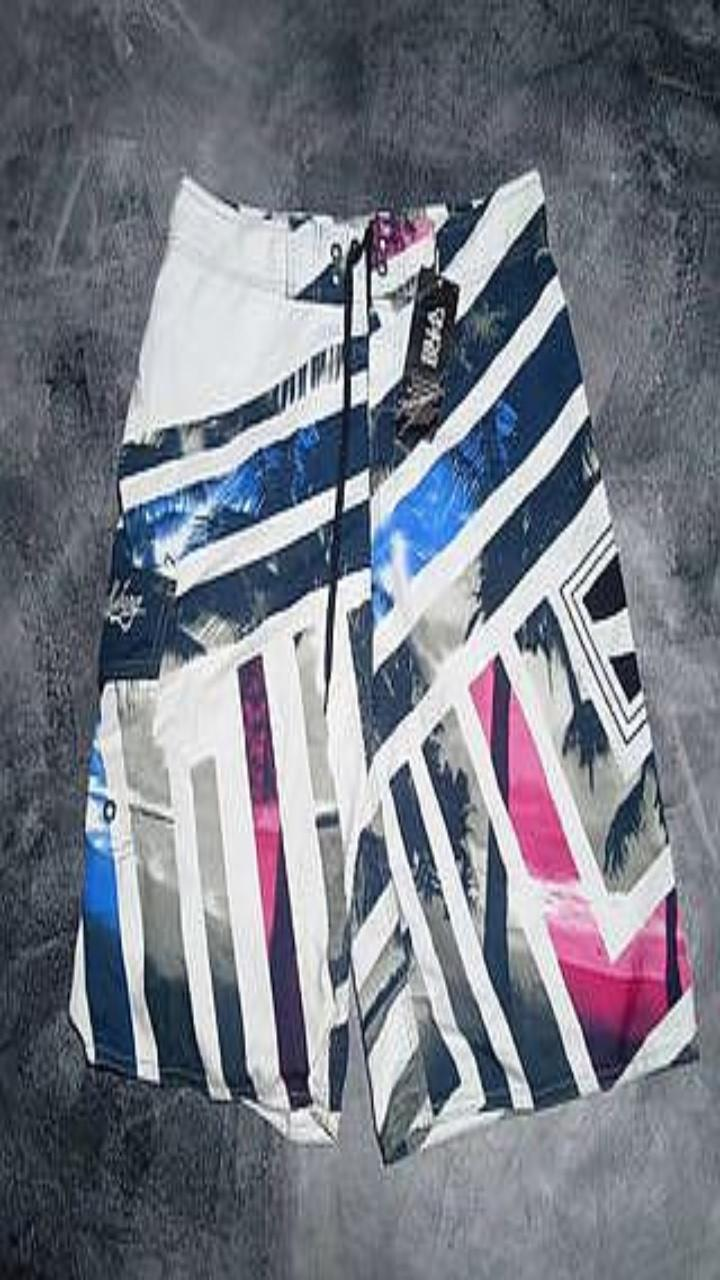Shorts: (71, 170, 697, 1162)
